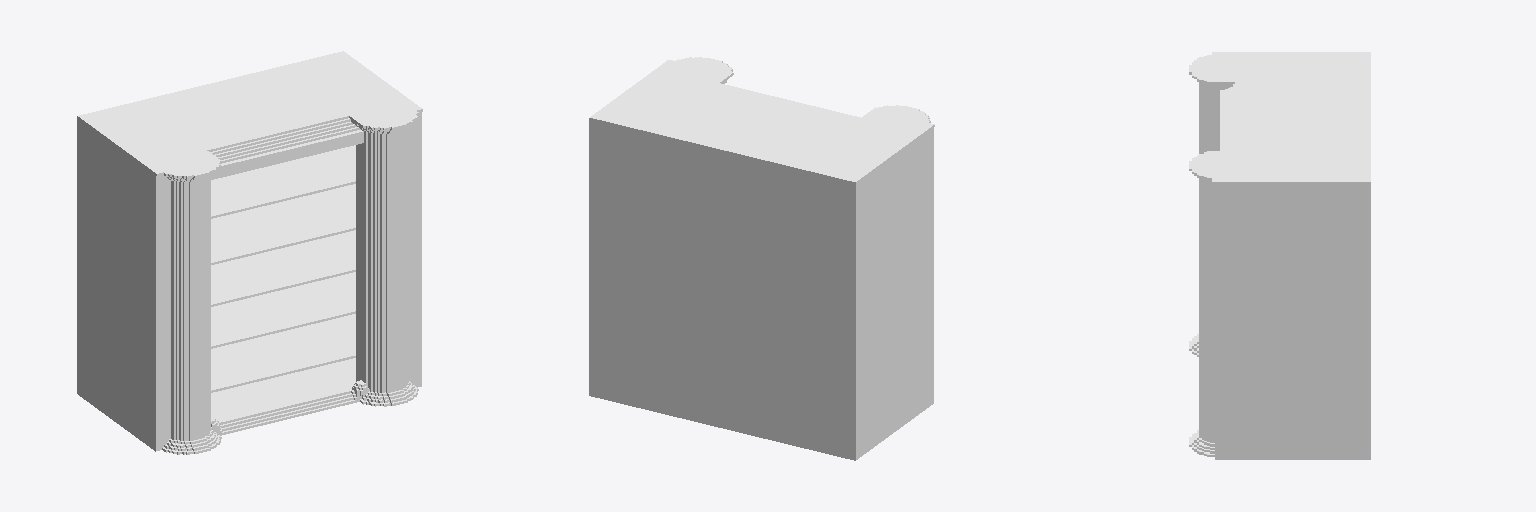
Rendered from bureau_mobilier-5.obj.
The picture shows the model from 3 angles: view 1: azimuth 30°, elevation 25°; view 2: azimuth 150°, elevation 25°; view 3: azimuth 270°, elevation 25°; orthographic projection.
Parts seen in each view (by area): view 1: object 1; view 2: object 1; view 3: object 1.
Part boxes in pixels (bbox=[...]): object 1: bbox=[77, 51, 422, 454]; object 1: bbox=[589, 57, 934, 460]; object 1: bbox=[1189, 52, 1370, 459].
Bounding box in the file's own units: 12 × 12 × 7.1.